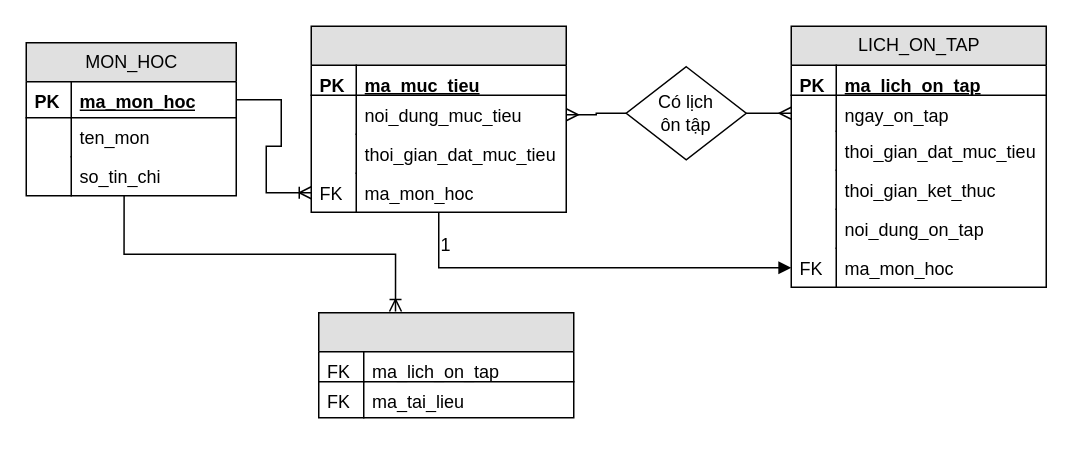
This 1073x449 diagram has some shape labels left out. Here are the shapes that lost their labels. From the top down, the box of each, then its label:
(310, 25, 566, 212): MUC_TIEU_HOC_TAP
(317, 311, 574, 418): LICH_ON_TAP_TAI_LIEU
